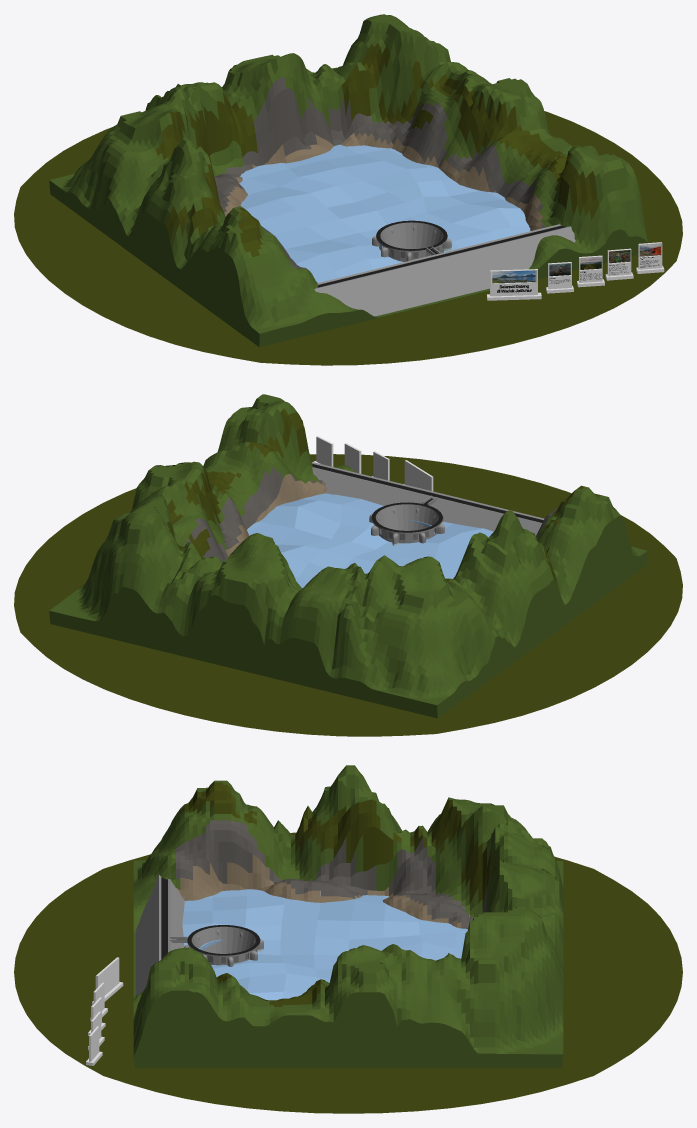
The model's file is wadukJatiluhur.glb.
The picture shows the model from 3 angles, top to bottom: view 1: azimuth 30°, elevation 25°; view 2: azimuth 150°, elevation 25°; view 3: azimuth 270°, elevation 25°; orthographic projection. The views are drawn at different scales.
Visible parts, largest first — view 1: Plane, Plane.001, Cube.001, Cube, Circle, Plane.006, Plane.005, Plane.004, Plane.002, Plane.003; view 2: Plane, Plane.001, Cube.001, Cube, Circle, Plane.006; view 3: Plane, Plane.001, Cube.001, Cube, Circle, Plane.006.
Part boxes in pixels (x1,y1,x2,y2): Plane: [49, 14, 647, 347]; Plane.001: [14, 111, 682, 365]; Cube.001: [239, 144, 530, 282]; Cube: [314, 224, 575, 316]; Circle: [376, 220, 447, 261]; Plane.006: [487, 269, 541, 300]; Plane.005: [636, 242, 664, 273]; Plane.004: [605, 248, 633, 280]; Plane.002: [577, 255, 604, 287]; Plane.003: [546, 262, 573, 293]; Plane: [49, 394, 647, 718]; Plane.001: [14, 454, 682, 736]; Cube.001: [247, 493, 493, 588]; Cube: [311, 462, 544, 535]; Circle: [371, 495, 442, 543]; Plane.006: [403, 460, 433, 491]; Plane: [133, 765, 563, 1068]; Plane.001: [14, 832, 682, 1113]; Cube.001: [182, 889, 469, 1000]; Cube: [135, 875, 184, 996]; Circle: [169, 925, 260, 965]; Plane.006: [92, 957, 123, 1005].
Size of the model in its own units: 25.28 by 5.25 by 25.28.
14 materials, 5 textured.
